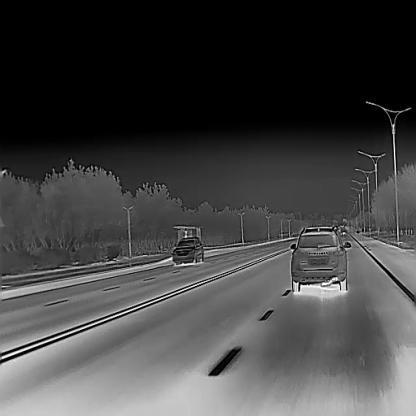car: (289, 225, 351, 291), (172, 236, 204, 264), (340, 228, 347, 234)
